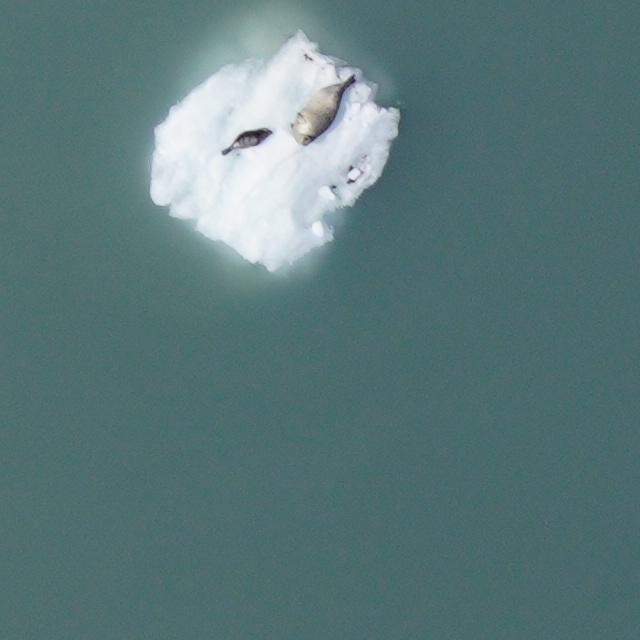seal: (283, 62, 367, 152), (218, 125, 276, 156)
